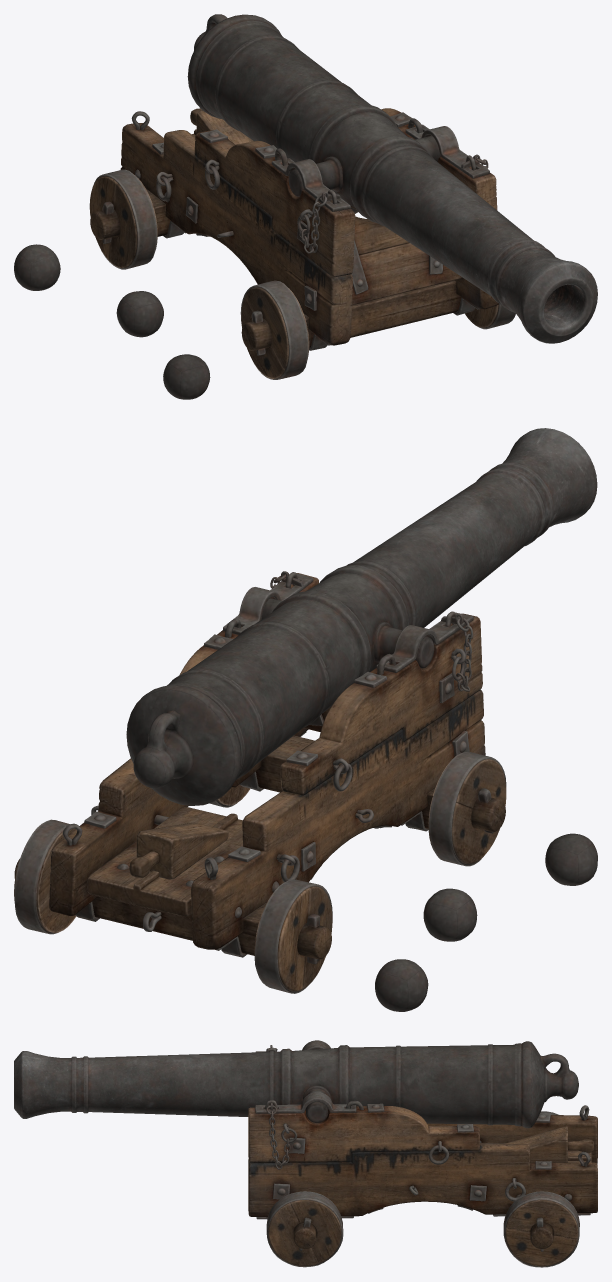
The model's file is cannon_01_1k.gltf.
The picture shows the model from 3 angles, top to bottom: view 1: azimuth 30°, elevation 25°; view 2: azimuth 150°, elevation 25°; view 3: azimuth 270°, elevation 25°; orthographic projection. The views are drawn at different scales.
Parts seen in each view (by area): view 1: cannon_01_frame, cannon_01_barrel, cannon_01_wheel_02, cannon_01_wheel_01, cannon_01_ball_02, cannon_01_ball_03, cannon_01_ball_01, cannon_01_pusherblock, cannon_01_wheel_03; view 2: cannon_01_frame, cannon_01_barrel, cannon_01_wheel_01, cannon_01_wheel_02, cannon_01_wheel_04, cannon_01_pusherblock, cannon_01_ball_02, cannon_01_ball_03, cannon_01_ball_01; view 3: cannon_01_barrel, cannon_01_frame, cannon_01_wheel_04, cannon_01_wheel_03, cannon_01_pusherblock.
Boxes of the visible parts, x1,y1,x2,y2 form: cannon_01_frame: (90, 108, 498, 355); cannon_01_barrel: (187, 14, 597, 343); cannon_01_wheel_02: (89, 169, 157, 269); cannon_01_wheel_01: (240, 280, 309, 379); cannon_01_ball_02: (116, 291, 163, 337); cannon_01_ball_03: (14, 244, 60, 290); cannon_01_ball_01: (163, 354, 210, 399); cannon_01_pusherblock: (190, 108, 253, 144); cannon_01_wheel_03: (465, 304, 515, 329); cannon_01_frame: (14, 571, 505, 964); cannon_01_barrel: (126, 428, 597, 805); cannon_01_wheel_01: (428, 752, 506, 866); cannon_01_wheel_02: (254, 879, 332, 993); cannon_01_wheel_04: (14, 819, 76, 934); cannon_01_pusherblock: (129, 822, 228, 879); cannon_01_ball_02: (423, 888, 477, 941); cannon_01_ball_03: (375, 959, 428, 1011); cannon_01_ball_01: (545, 833, 597, 885); cannon_01_barrel: (14, 1041, 578, 1128); cannon_01_frame: (248, 1040, 597, 1251); cannon_01_wheel_04: (503, 1191, 579, 1267); cannon_01_wheel_03: (266, 1191, 343, 1267); cannon_01_pusherblock: (504, 1126, 593, 1163).
Bounding box in the file's own units: 0.8046 × 0.5061 × 1.5.
Materials: 1 (1 with a texture image).
